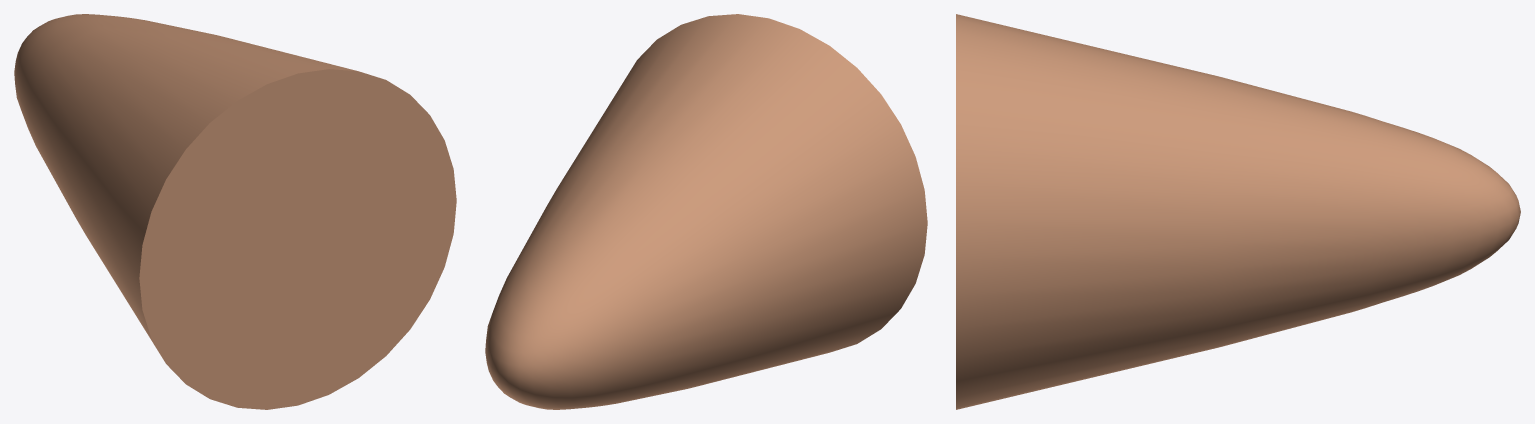
File: Rocket.fbx
The picture shows the model from 3 angles, left to right: view 1: azimuth 30°, elevation 25°; view 2: azimuth 150°, elevation 25°; view 3: azimuth 270°, elevation 25°; orthographic projection. The views are drawn at different scales.
Visible parts, largest first — view 1: Sphere.001; view 2: Sphere.001; view 3: Sphere.001.
Boxes of the visible parts, x1,y1,x2,y2 form: Sphere.001: (14,14,456,409); Sphere.001: (485,14,927,409); Sphere.001: (956,14,1520,409).
Size of the model in its own units: 272 by 272 by 387.
